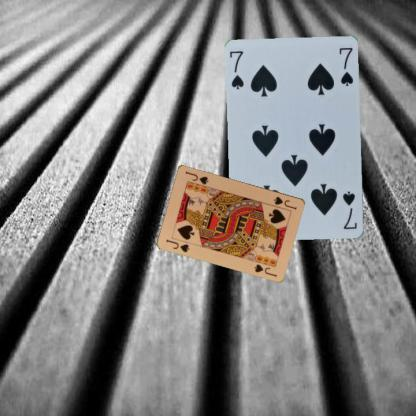7s: (340, 188, 358, 231), (228, 48, 245, 90)
Js: (271, 193, 298, 211), (164, 236, 191, 254)
